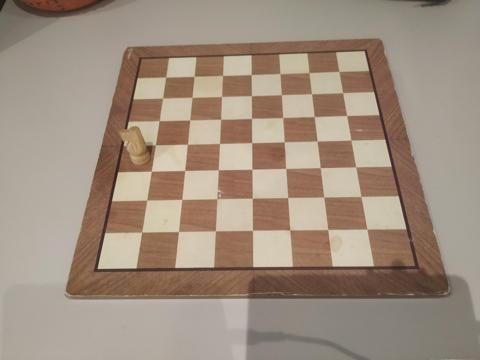xcorner: (137, 226, 147, 236), (211, 226, 221, 236), (248, 225, 258, 235), (286, 225, 296, 235), (324, 224, 334, 234), (362, 224, 372, 234), (142, 194, 152, 204), (177, 194, 187, 204), (212, 193, 222, 203), (248, 193, 258, 203), (284, 192, 294, 202), (320, 192, 330, 202), (147, 165, 157, 175), (180, 164, 190, 174), (214, 164, 224, 174), (248, 163, 258, 173), (316, 162, 326, 172), (351, 161, 361, 171), (151, 138, 161, 148), (183, 138, 193, 148), (215, 137, 225, 147), (248, 136, 258, 146), (313, 135, 323, 145), (346, 134, 356, 144), (155, 114, 165, 124), (186, 113, 196, 123), (216, 112, 226, 122), (279, 111, 289, 121), (310, 110, 320, 120), (342, 109, 352, 119), (188, 91, 198, 101), (247, 89, 257, 99), (277, 88, 287, 98), (308, 87, 318, 97), (162, 71, 172, 81), (190, 70, 200, 80), (219, 69, 229, 79), (247, 68, 257, 78), (276, 67, 286, 77), (334, 66, 344, 76), (174, 226, 183, 236), (357, 191, 366, 201), (282, 163, 292, 172), (280, 136, 290, 145), (248, 112, 257, 122), (159, 92, 169, 101), (218, 90, 227, 100), (338, 87, 348, 96), (305, 67, 315, 76)
